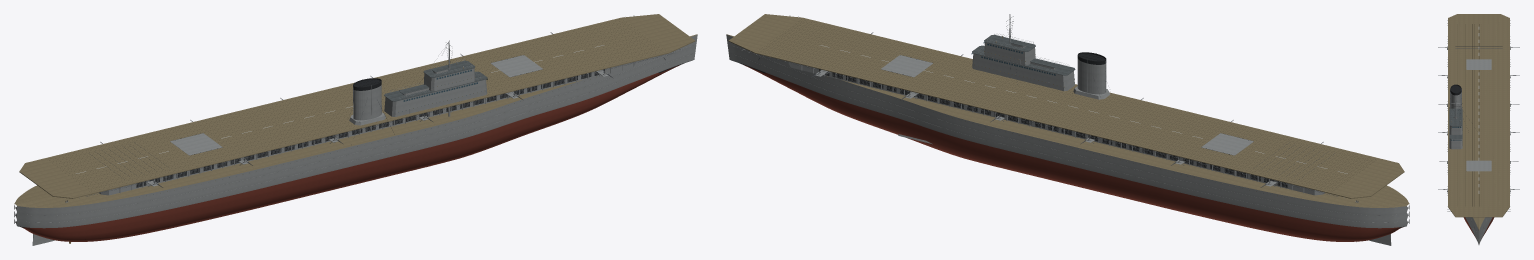
The model's file is ocean_cv38.glb.
3 renders of one model, left to right at view 1: azimuth 30°, elevation 25°; view 2: azimuth 150°, elevation 25°; view 3: azimuth 270°, elevation 25°, orthographic. The views are drawn at different scales.
Parts seen in each view (by area): view 1: Sovetskaya Aviatsiya carrier; view 2: Sovetskaya Aviatsiya carrier; view 3: Sovetskaya Aviatsiya carrier.
Boxes of the visible parts, bbox=[...] form: Sovetskaya Aviatsiya carrier: bbox=[14, 14, 697, 245]; Sovetskaya Aviatsiya carrier: bbox=[726, 14, 1409, 245]; Sovetskaya Aviatsiya carrier: bbox=[1438, 14, 1519, 244].
Size of the model in its own units: 263 by 45.58 by 42.1.
9 materials, 8 textured.
